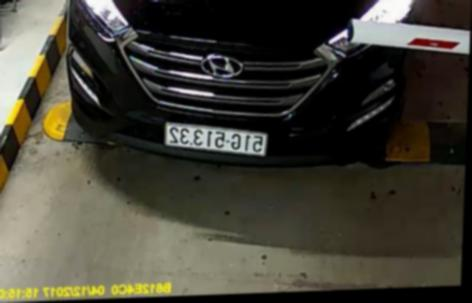License_Plate: (156, 120, 269, 161)
